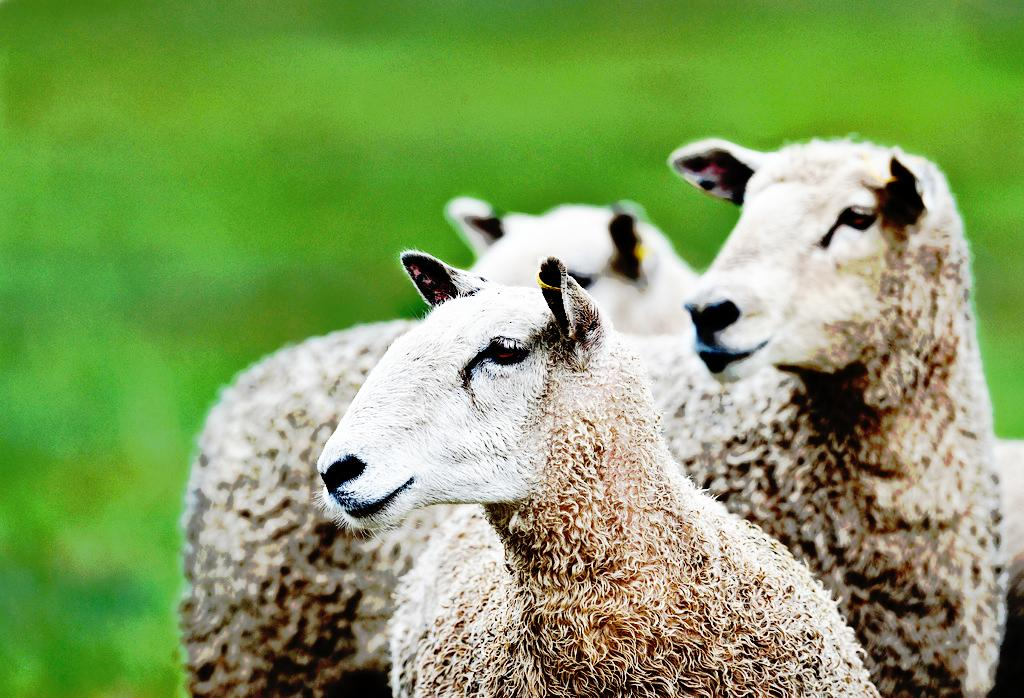Sheep: (164, 195, 706, 673), (309, 249, 876, 672), (622, 133, 1008, 665)
